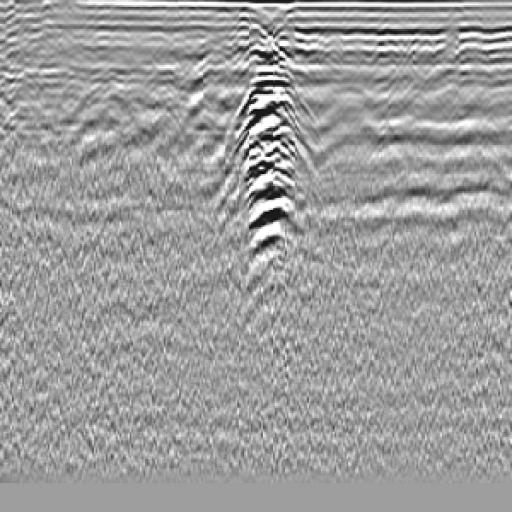metalic: (230, 41, 308, 275)
